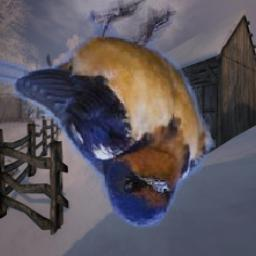Swallow: (0, 0, 214, 229)
